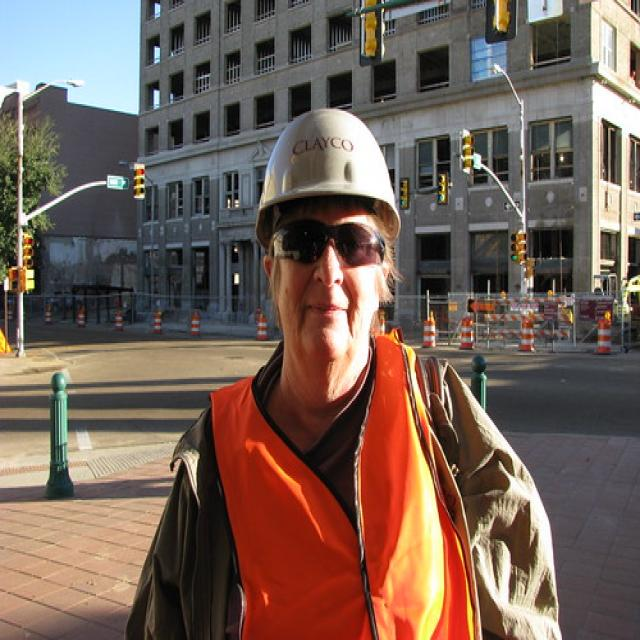Reflective-Jacket: (175, 346, 490, 638)
Safety-Helmet: (250, 102, 403, 242)
